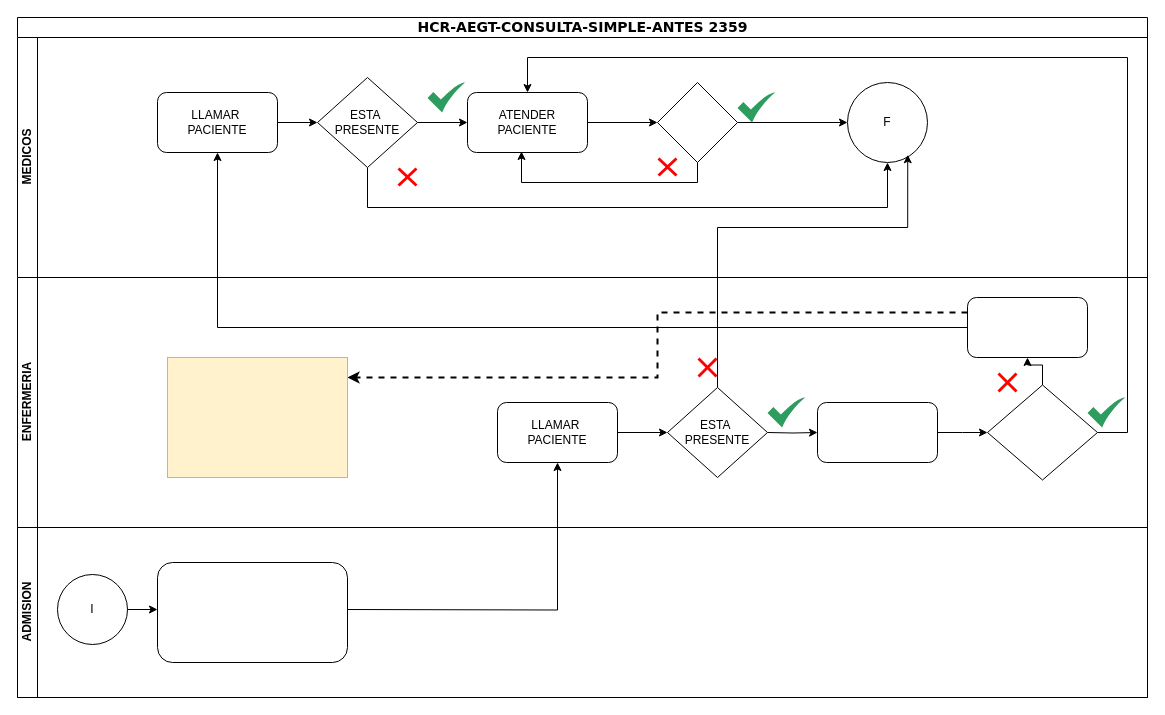
Some shapes in this 1165 by 715 pixel diagram are drawn without their labels. The shapes that lost their labels are listed below. From the top down, each one's centre as x and y in pixels, then its label:
point 697,122: FINALIZA ATENCION
point 1027,327: ESPERAR ATENCION MEDICA
point 257,417: Esperar El Paciente queda en sala de espera hasta ser llamado por el enfermero
point 877,432: REALIZAR TRIAJE
point 1042,432: Shocroom o boxes
point 252,612: RECEPCIONAR PACIENTES ANOTAR MOTIVO DE CONSULTA REFERIDO POR EL PACIENTE
